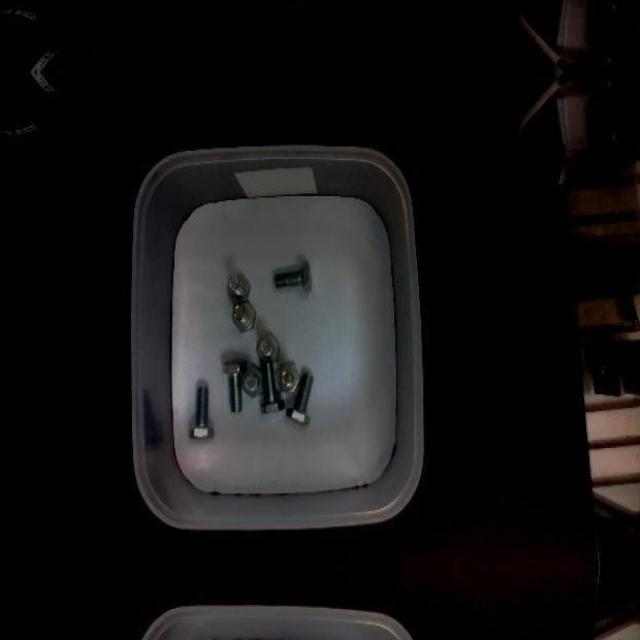screw: (286, 370, 314, 426), (189, 385, 215, 440), (221, 359, 247, 413), (260, 359, 285, 413), (276, 260, 312, 293), (277, 361, 300, 394), (232, 300, 256, 331), (256, 331, 280, 362), (227, 274, 251, 304), (242, 366, 263, 398)
